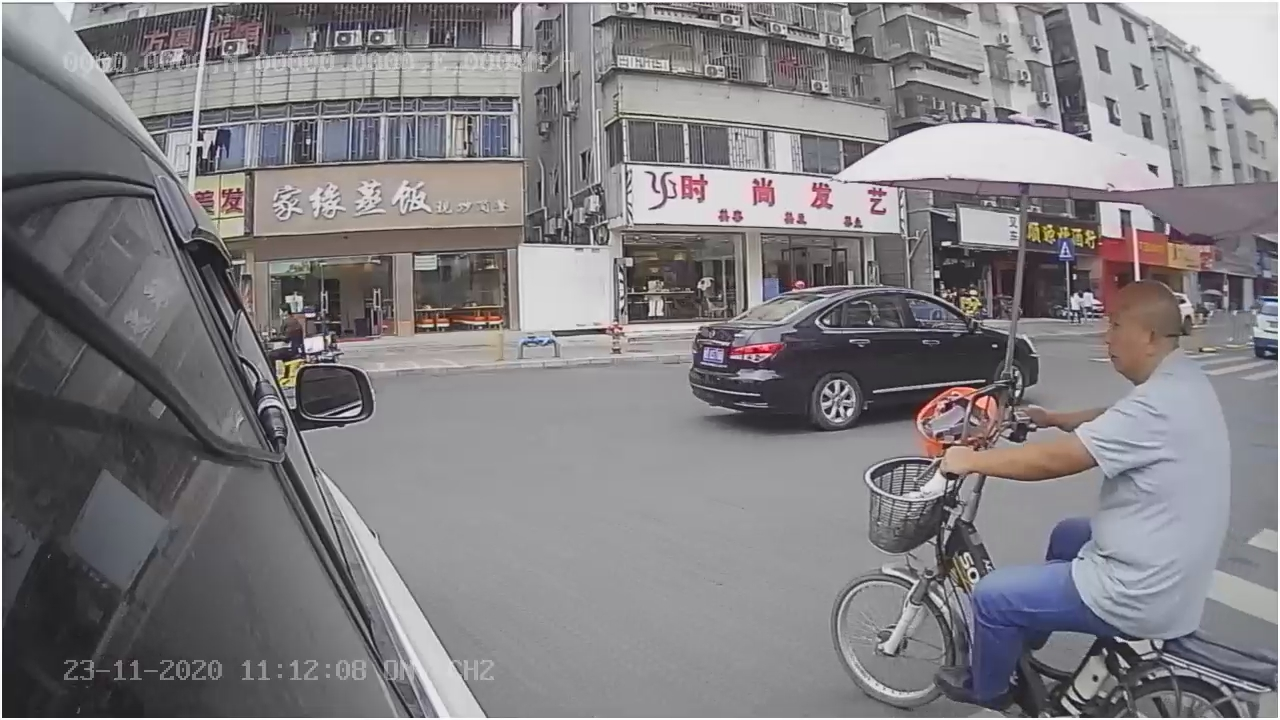person: (1038, 297, 1237, 636)
